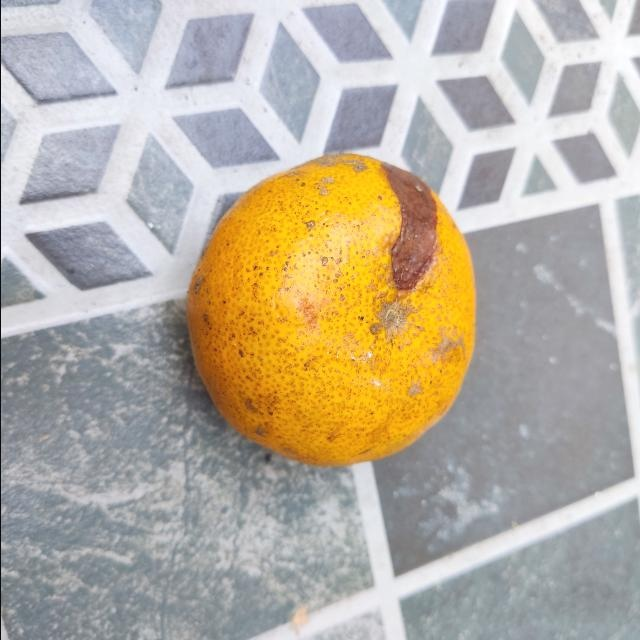agrume: (183, 153, 481, 467)
